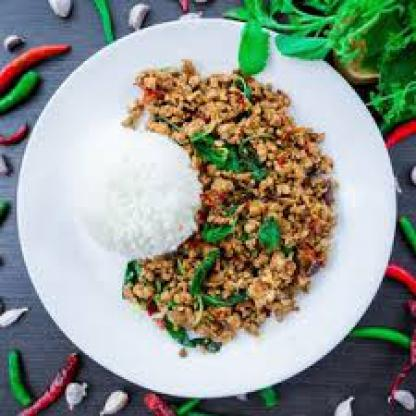Basil Rice: (61, 56, 346, 370)
